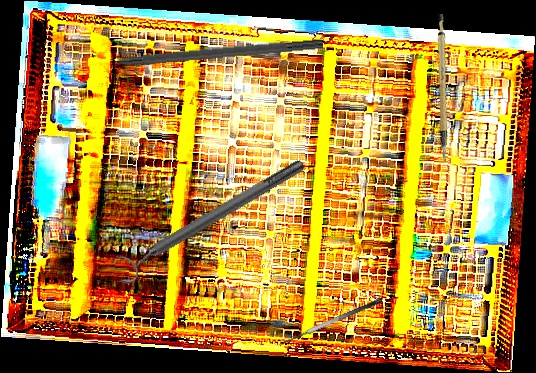Fixation Ring: (107, 150, 312, 289)
Hook Surgical: (88, 35, 324, 71)
Scalpel Handle: (417, 13, 465, 162)
Spatula Surgical: (277, 296, 387, 354)
